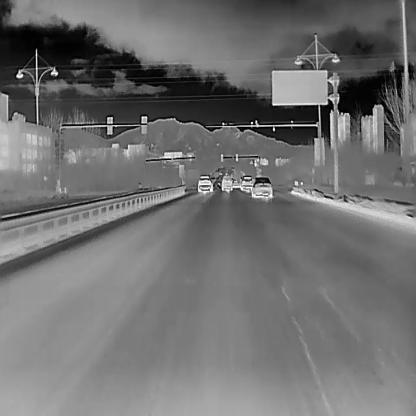car: (251, 177, 272, 199), (197, 175, 213, 193), (238, 175, 253, 191), (219, 175, 233, 192), (231, 178, 239, 189)
